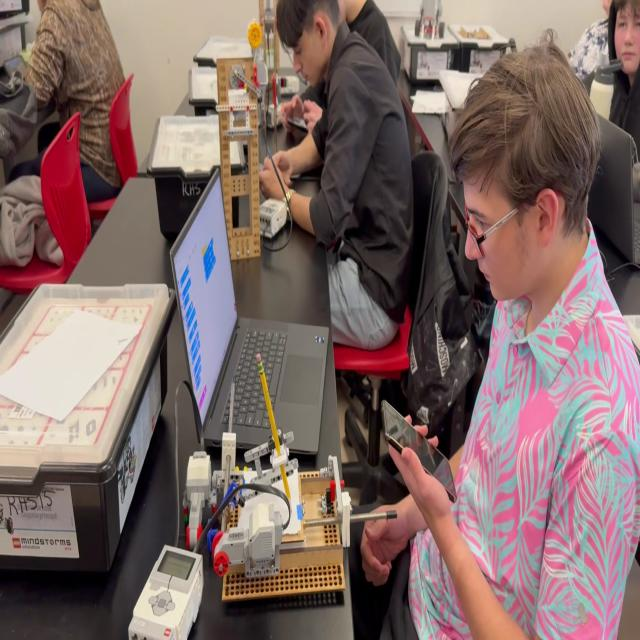pen: (382, 399, 458, 504), (254, 162, 284, 198), (3, 54, 28, 82), (287, 112, 313, 134)
